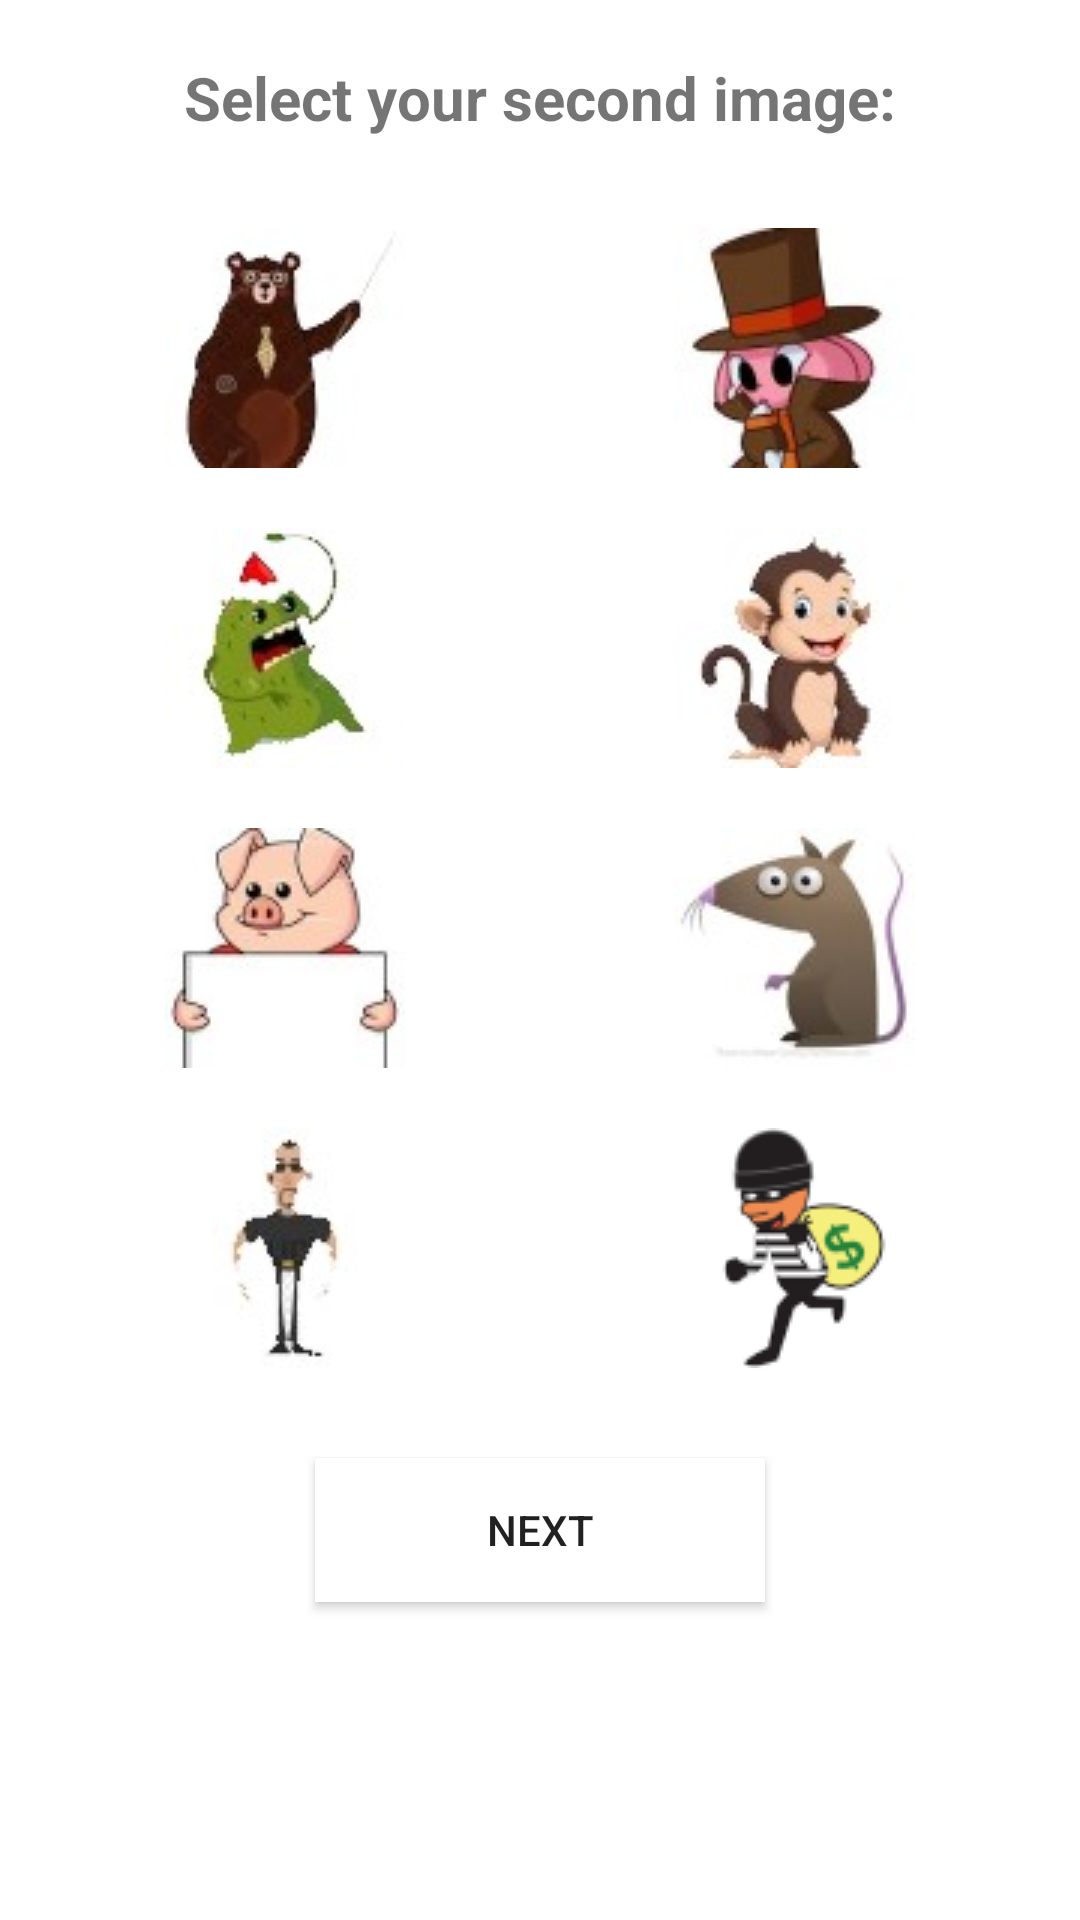

Icons on this 1080px×1920px Android screen, each with its box as bbox=(x1, y1, x2, y2):
bearcartoon: bbox=(185, 251, 374, 468)
greenguycartoon: bbox=(202, 531, 366, 757)
monkeycartoon: bbox=(701, 537, 871, 768)
piggycartoon: bbox=(170, 828, 399, 1068)
ratcartoon: bbox=(681, 834, 907, 1055)
securitycartoon: bbox=(231, 1139, 338, 1357)
thiefcartoon: bbox=(724, 1128, 885, 1368)
